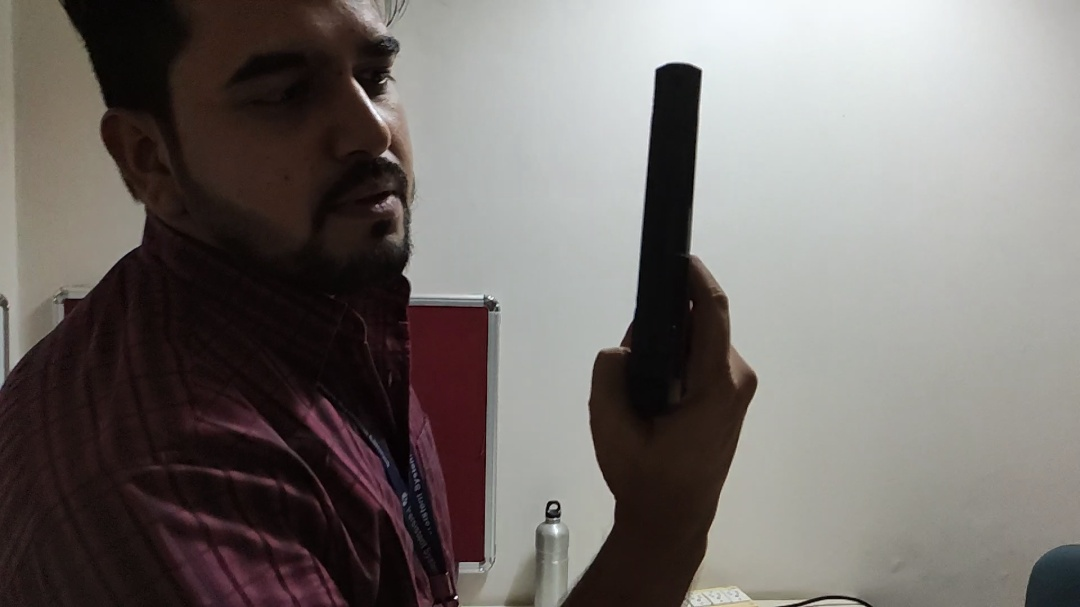gun: (614, 54, 721, 432)
